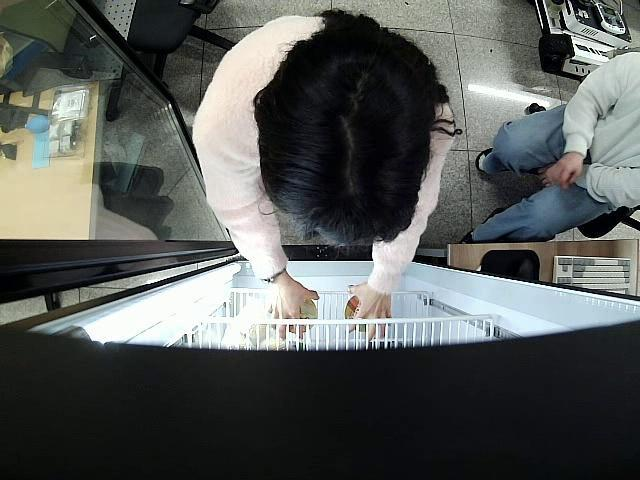04_chapagetti_S: (285, 300, 320, 334), (344, 296, 366, 332)
